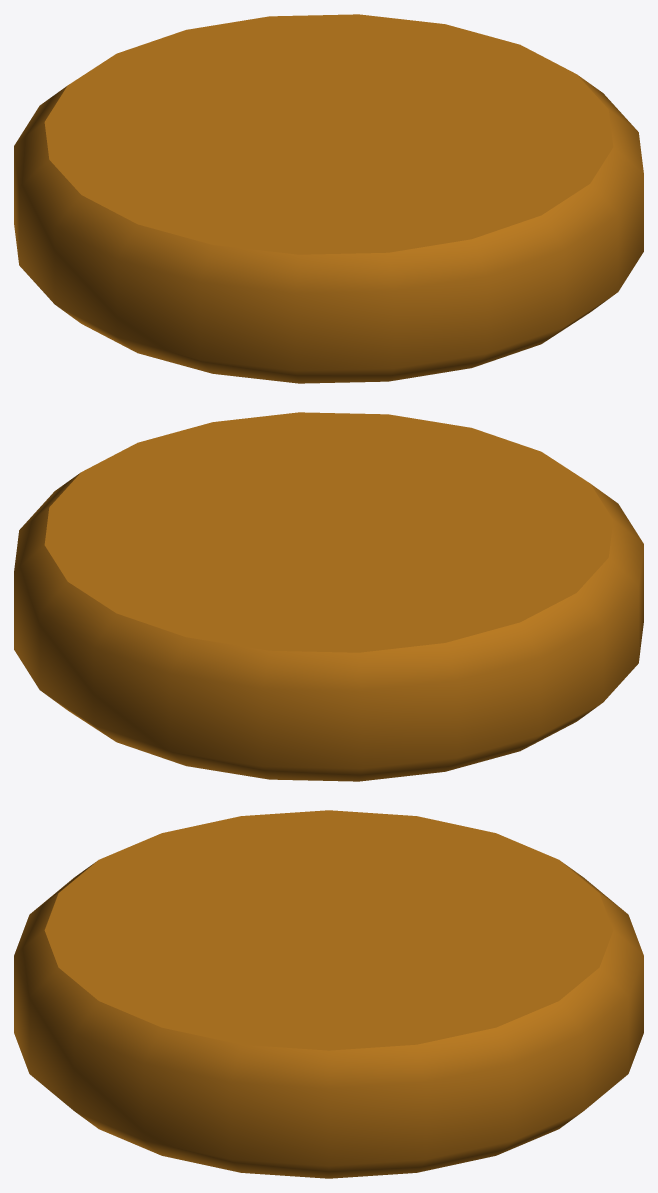
Rendered from Blocker_C_Ring.fbx.
3 views of the same model, one above another, from view 1: azimuth 30°, elevation 25°; view 2: azimuth 150°, elevation 25°; view 3: azimuth 270°, elevation 25° (orthographic).
Parts seen in each view (by area): view 1: Blocker_C_Ring; view 2: Blocker_C_Ring; view 3: Blocker_C_Ring.
Boxes of the visible parts, <box> form: Blocker_C_Ring: <box>14,14,643,383</box>; Blocker_C_Ring: <box>14,412,643,781</box>; Blocker_C_Ring: <box>14,810,643,1178</box>.
Bounding box in the file's own units: 1.16 × 0.2615 × 1.16.
